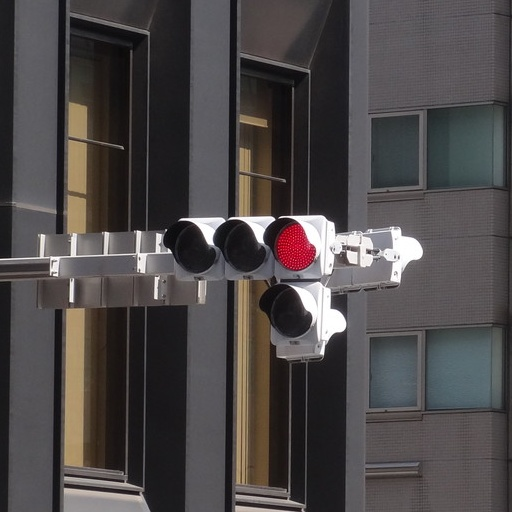Traffic_Signal_Red: (168, 212, 331, 278)
